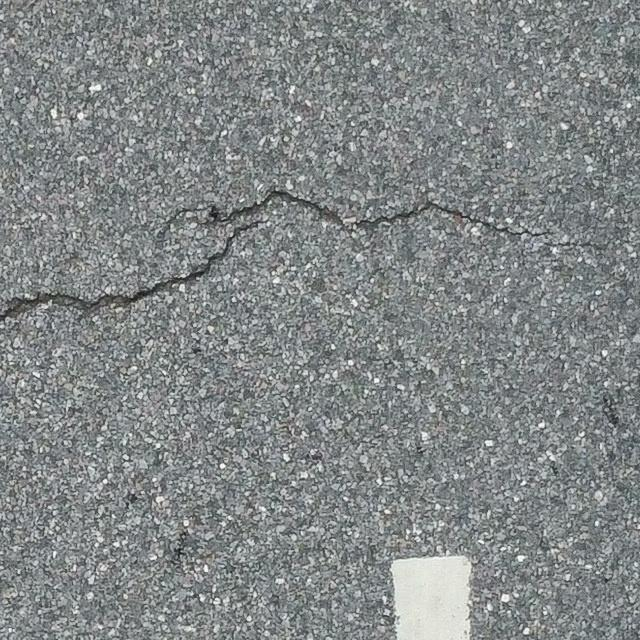TransverseCrack: (1, 188, 595, 318)
